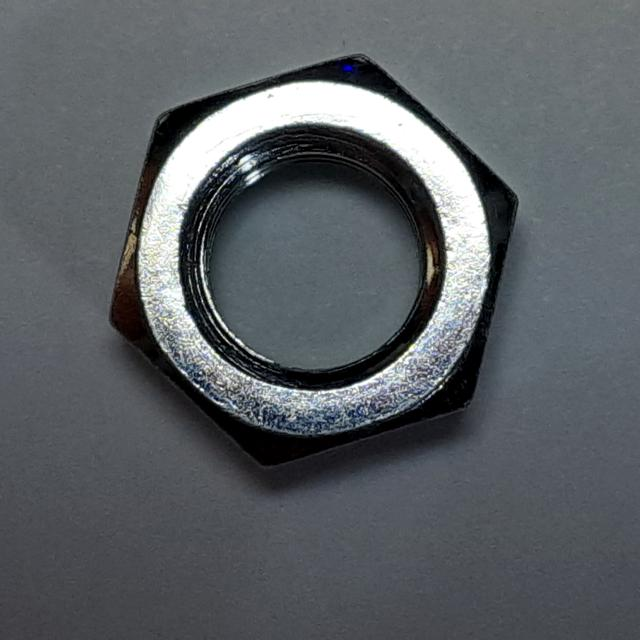Excellent: (87, 38, 550, 487)
